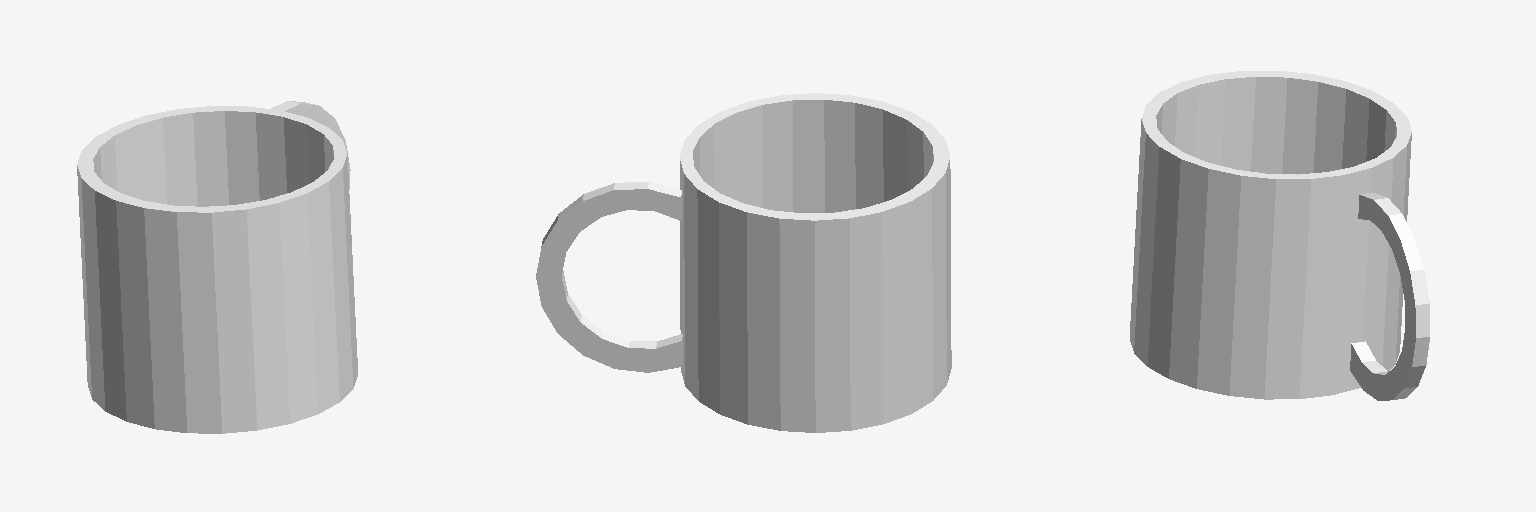
File: mug.obj
The picture shows the model from 3 angles: view 1: azimuth 30°, elevation 25°; view 2: azimuth 150°, elevation 25°; view 3: azimuth 270°, elevation 25°; orthographic projection.
Parts seen in each view (by area): view 1: model_normalized; view 2: model_normalized; view 3: model_normalized.
Boxes of the visible parts, x1=… form: model_normalized: x1=77, y1=101, x2=357, y2=433; model_normalized: x1=536, y1=93, x2=951, y2=432; model_normalized: x1=1130, y1=71, x2=1429, y2=400.
Bounding box in the file's own units: 0.6855 × 0.4658 × 0.5492.